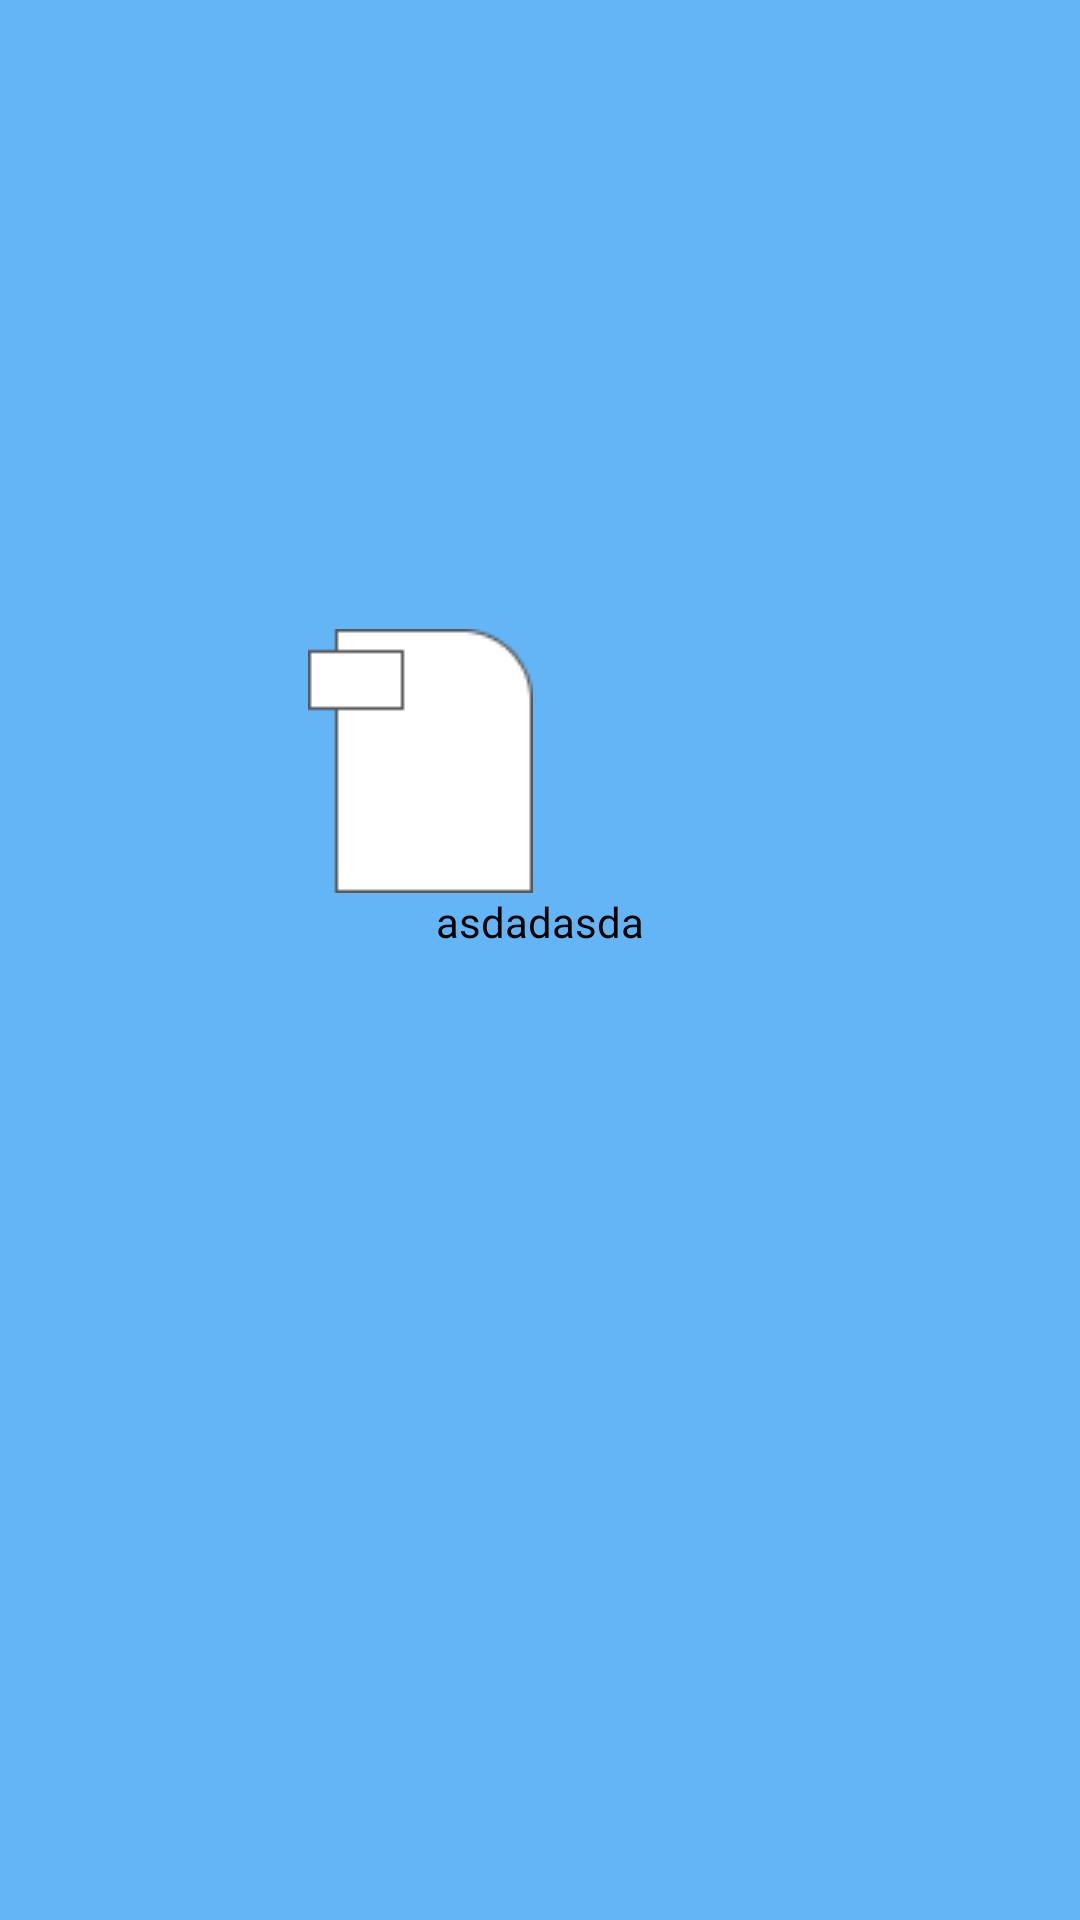

Point at icon controls on the screen. Image size 1080px x 1920px, points as point (x, y).
gambarfile: point (420, 761)
